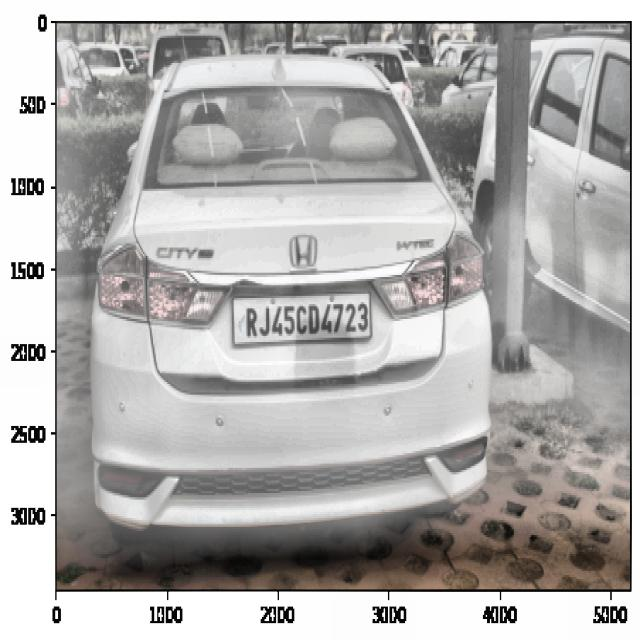license_plate: (237, 292, 372, 340)
